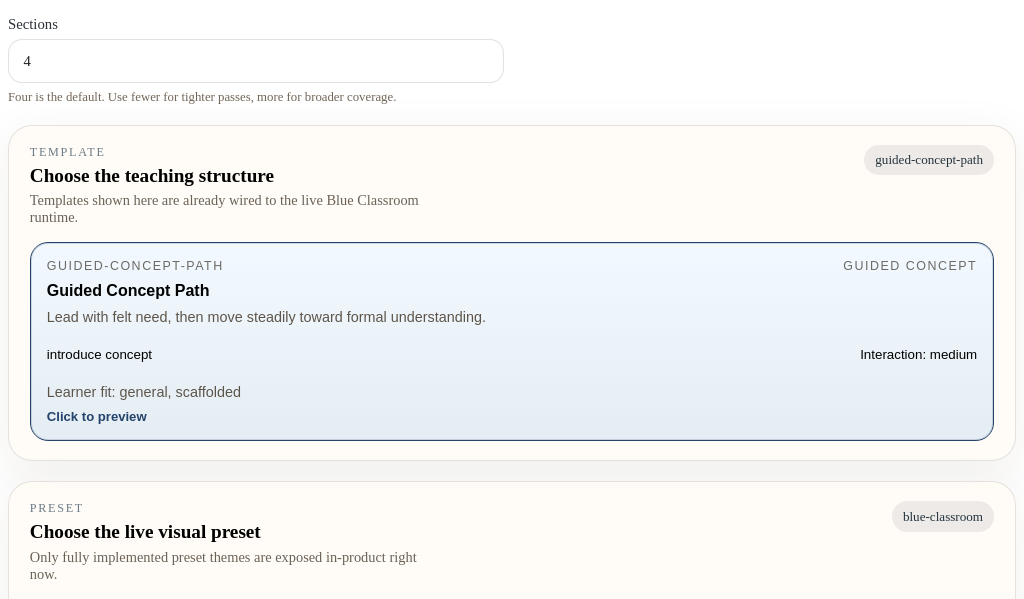
Test: ProfileForm template runtime selection › shows only the live preset and templates that support it, then opens the shared preview surface
This screenshot has width=1024, height=599.
(page scrolled)
Click the button with aria-label "preview guided concept path".
click(512, 342)  # box [30,242,994,441]
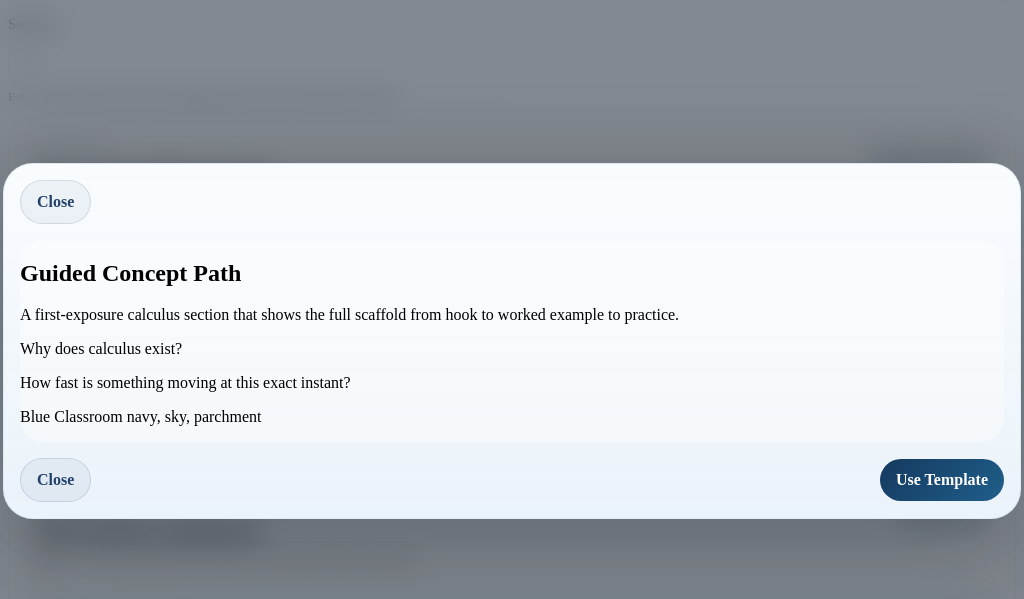
Expected: the dialog named "guided concept path preview" is shown, [3,163,1021,519]
Expected: the text "A first-exposure calculus section that shows the full scaffold" is shown, [20,306,679,323]
Expected: the text "Why does calculus exist?" is shown, [20,340,182,357]
Click the button "Use Template".
click(942, 480)  # box [880,459,1004,501]
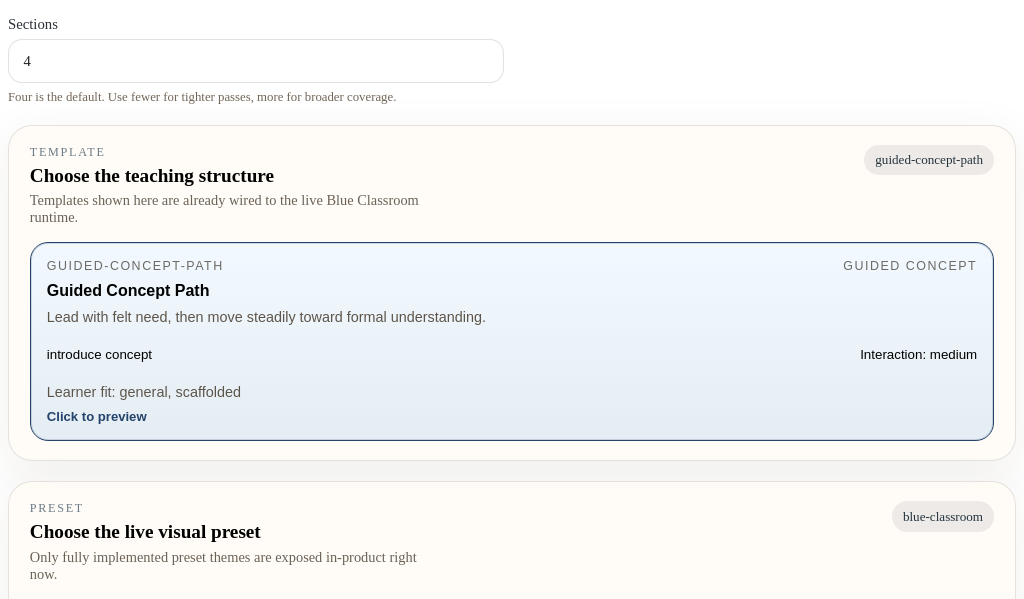
Expected: the dialog is gone
